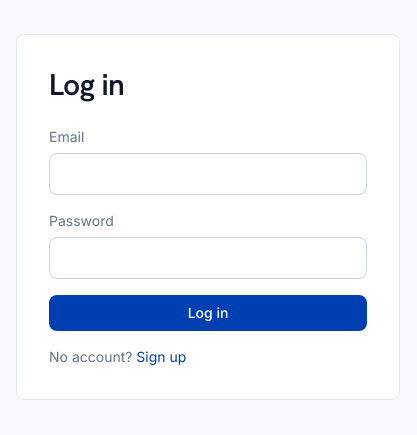
Test: LoginPage › shows the backend's message when credentials are rejected
This screenshot has width=417, height=435.
Type "user@example.com" into the field labelled "Email" at (208, 174), box [49,152,367,194]
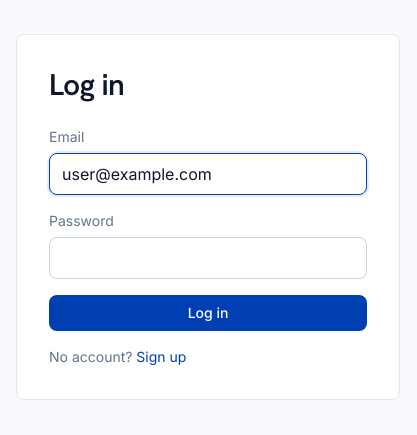
Type "password123" into the password field labelled "Password" at (208, 258), box [49,236,367,278]
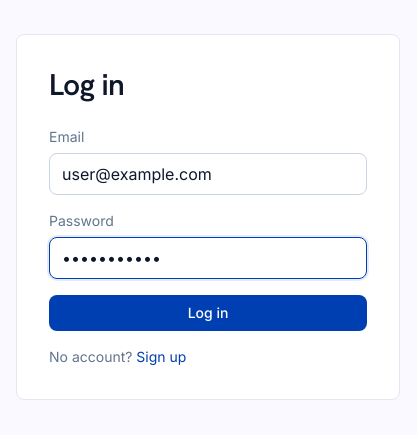
Click the button "Log in" at (208, 312), box [49,294,367,330]
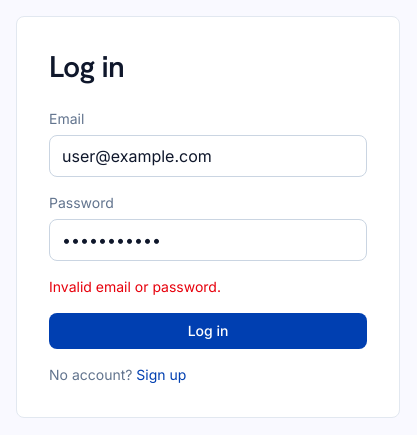
Result: the text "Invalid email or password." is shown at [49,278,221,294]
